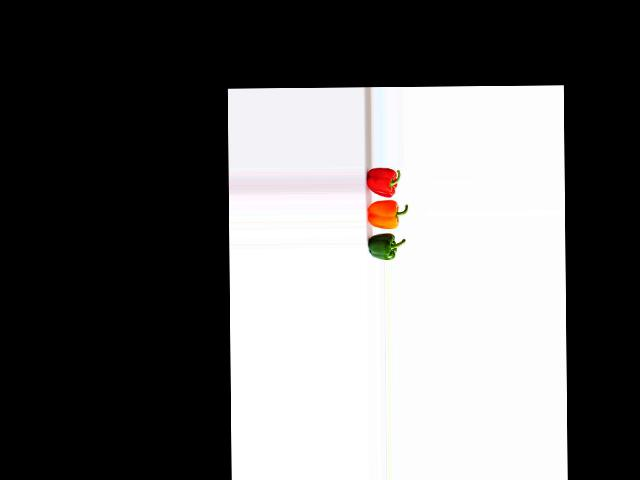bell_pepper: (367, 165, 407, 197)
